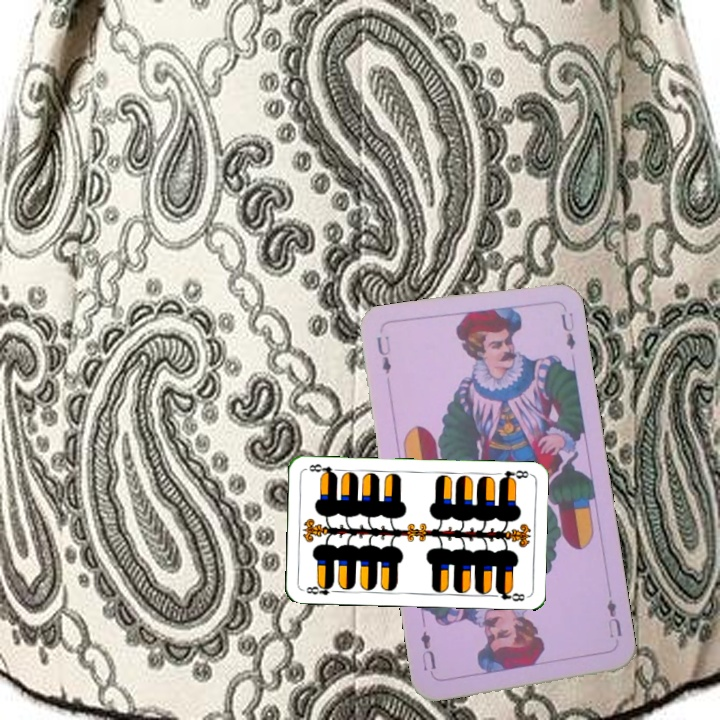E8: (495, 466, 532, 484), (303, 580, 340, 597)
EU: (602, 595, 624, 641), (372, 331, 394, 377)
